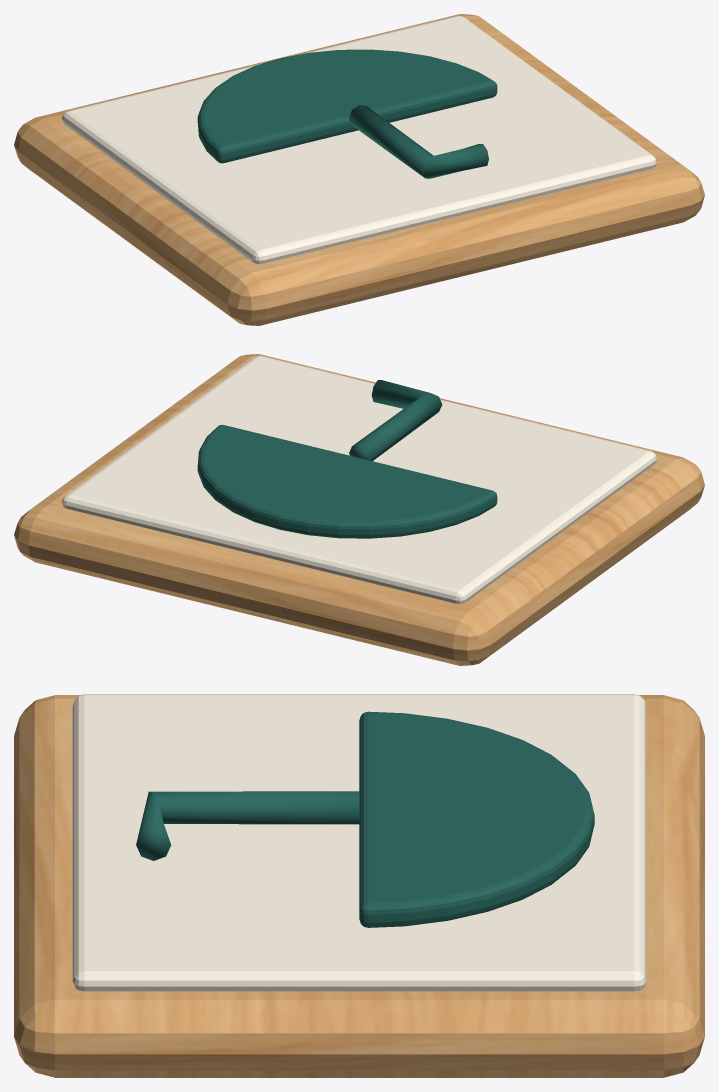
File: shade_clue.glb
3 views of the same model, one above another, from view 1: azimuth 30°, elevation 25°; view 2: azimuth 150°, elevation 25°; view 3: azimuth 270°, elevation 25° (orthographic). The views are drawn at different scales.
Parts seen in each view (by area): view 1: shade_clue; view 2: shade_clue; view 3: shade_clue.
Boxes of the visible parts, x1=… form: shade_clue: x1=14, y1=14, x2=704, y2=325; shade_clue: x1=14, y1=354, x2=704, y2=665; shade_clue: x1=14, y1=694, x2=704, y2=1077.
Bounding box in the file's own units: 0.54 × 0.099 × 0.47.
Materials: 3 (1 with a texture image).
